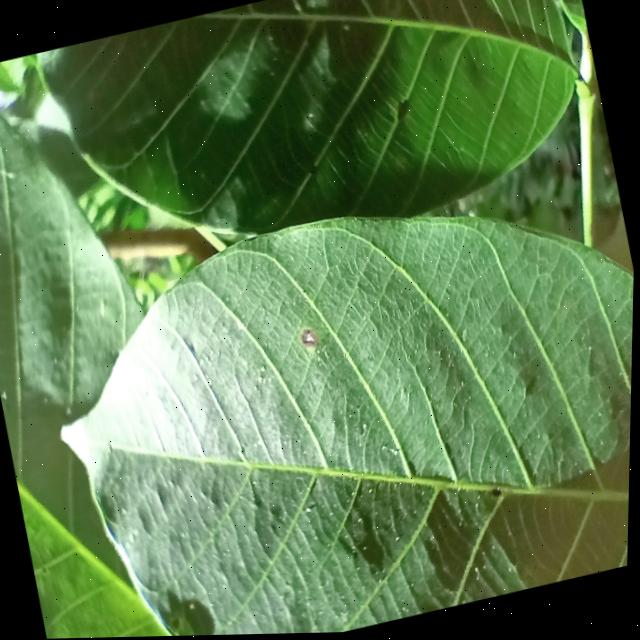Colletotrichum: (301, 327, 320, 351)
